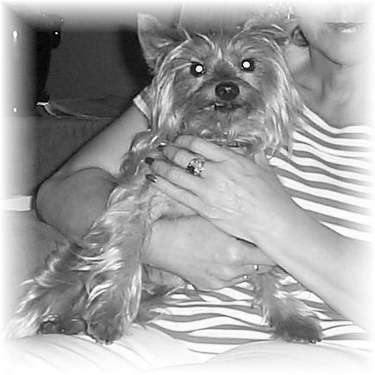dog: (23, 8, 339, 351)
